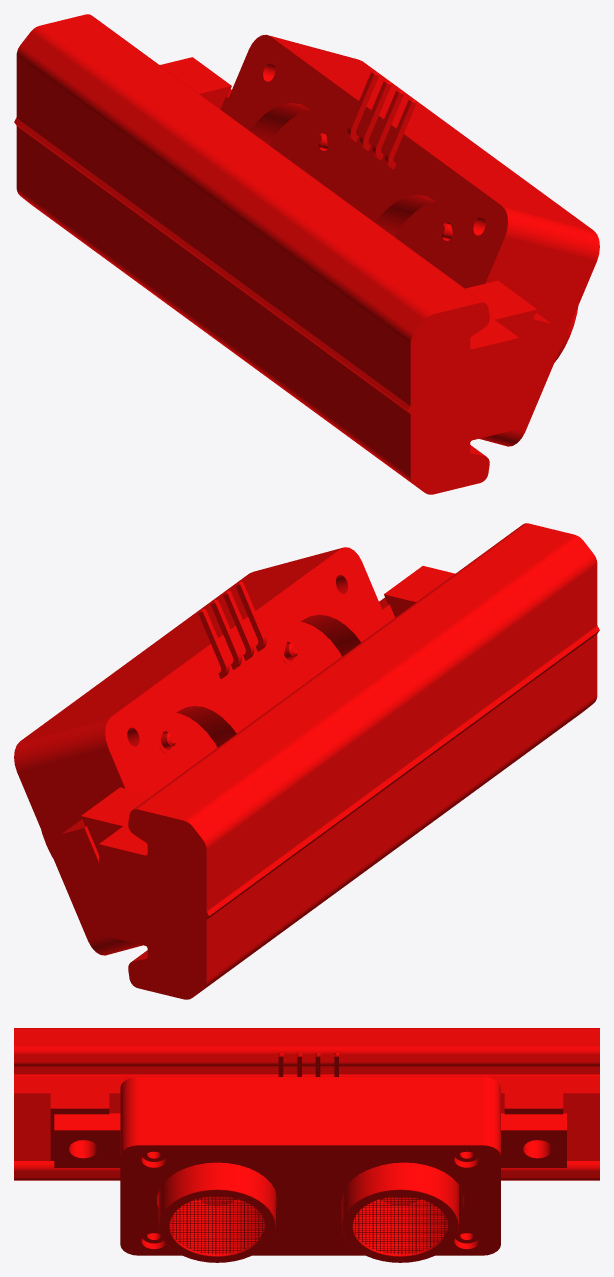
Rendered from sonar7.dae.
3 views of the same model, one above another, from view 1: azimuth 30°, elevation 25°; view 2: azimuth 150°, elevation 25°; view 3: azimuth 270°, elevation 25° (orthographic). The views are drawn at different scales.
Visible parts, largest first — view 1: Body1 (×3), Platine.step; view 2: Body1 (×3), Platine.step; view 3: Body1 (×4), Platine.step, HC_SR04_gitter_001.step.
Boxes of the visible parts, x1,y1,x2,y2 form: Body1 (×3): (14,14,599,494); Platine.step: (269,110,578,362); Body1 (×3): (14,523,599,999); Platine.step: (41,622,341,858); Body1 (×4): (14,1028,599,1255); Platine.step: (158,1162,458,1262); HC_SR04_gitter_001.step: (353,1196,447,1254).
Bounding box in the file's own units: 0.0339 × 0.08 × 0.0307.
